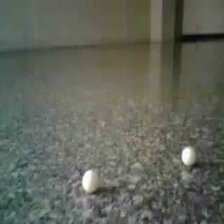w: (81, 170, 100, 192), (181, 146, 196, 166)
